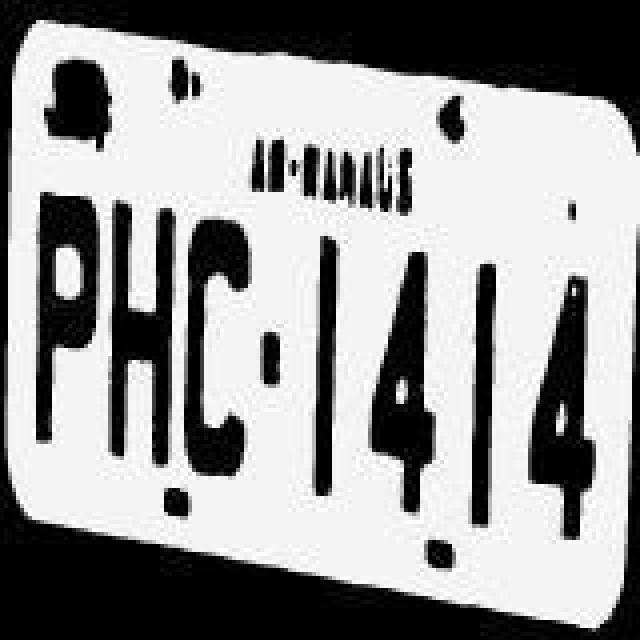1: (306, 216, 350, 504), (462, 244, 506, 532)
4: (526, 250, 602, 550), (372, 242, 444, 526)
C: (184, 198, 256, 490)
H: (106, 188, 182, 484)
P: (24, 188, 104, 468)
